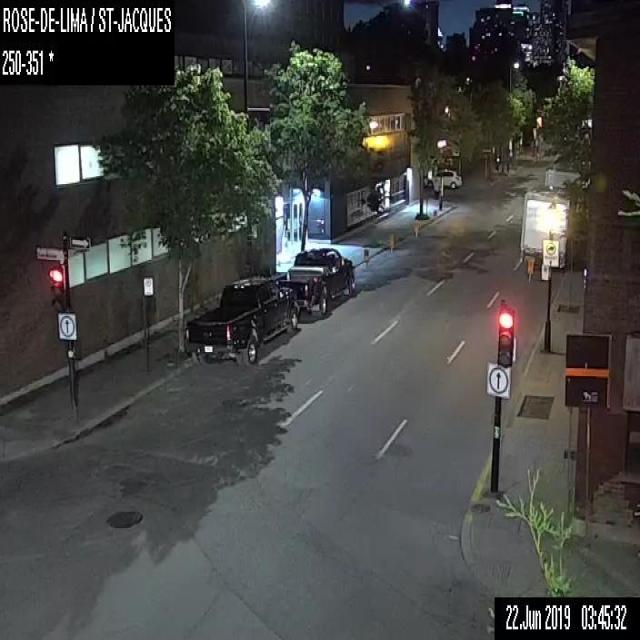construction: (361, 244, 370, 274), (388, 232, 396, 255), (525, 255, 533, 278), (413, 220, 420, 239), (432, 206, 438, 224)
vehicle: (181, 276, 298, 369), (281, 248, 353, 316), (517, 185, 574, 264), (423, 168, 461, 189)
